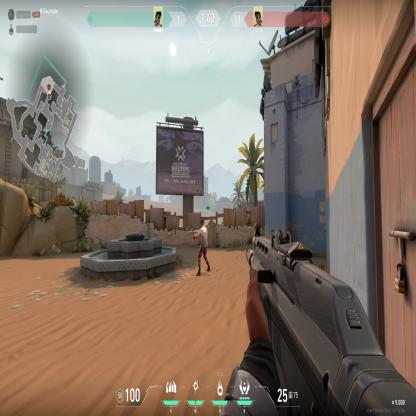enemy: (193, 218, 211, 276)
